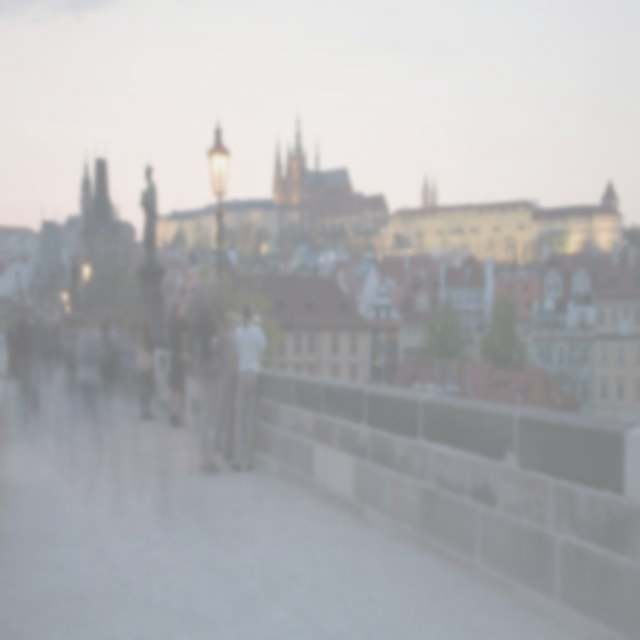pessoa: (2, 302, 125, 452), (229, 296, 266, 471), (186, 293, 220, 476), (164, 296, 189, 431), (136, 160, 162, 284), (220, 309, 240, 464), (136, 313, 158, 423), (65, 246, 81, 306), (12, 264, 25, 306), (211, 317, 223, 355)
